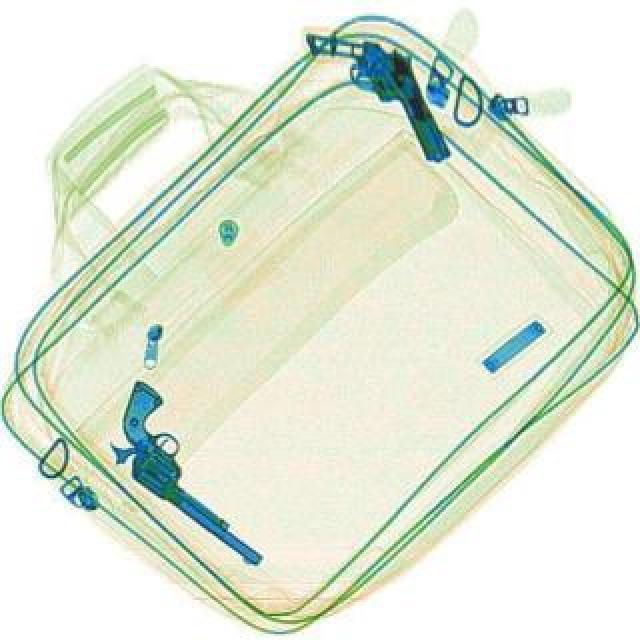gun: (80, 378, 308, 570), (300, 2, 450, 186)
